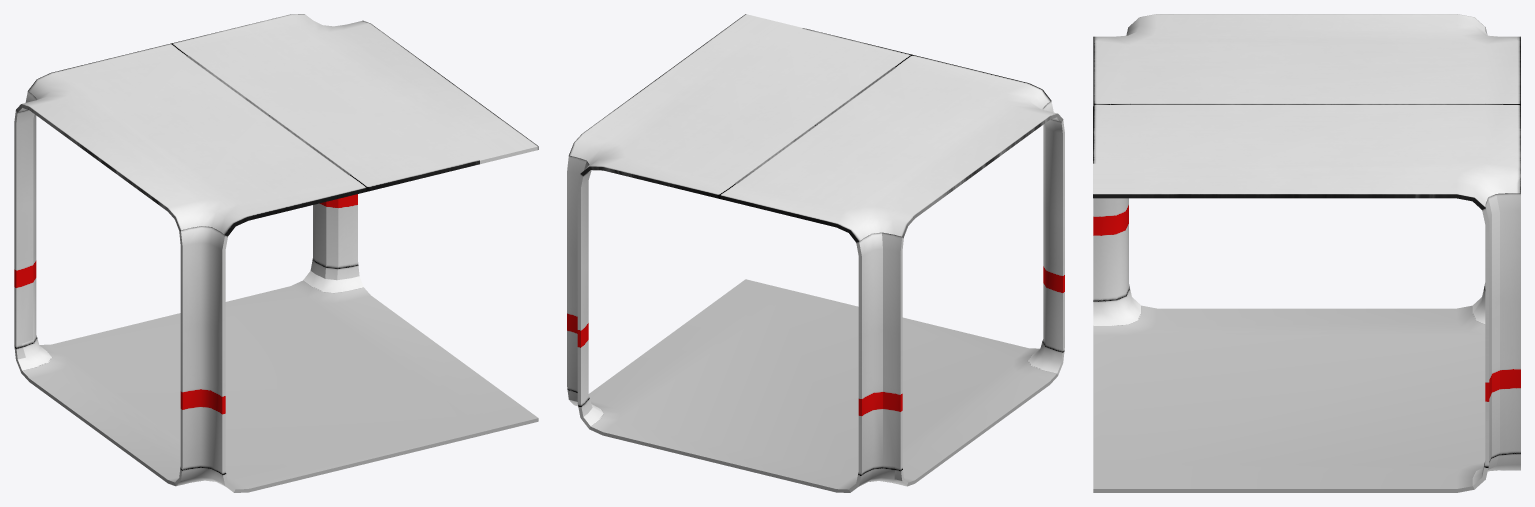
The model's file is Room_Entrence_002.FBX.
3 views of the same model, side by side, from view 1: azimuth 30°, elevation 25°; view 2: azimuth 150°, elevation 25°; view 3: azimuth 270°, elevation 25° (orthographic). The views are drawn at different scales.
Visible parts, largest first — view 1: Room_Entrence_002; view 2: Room_Entrence_002; view 3: Room_Entrence_002.
Part boxes in pixels (bbox=[...]): Room_Entrence_002: bbox=[14, 14, 538, 492]; Room_Entrence_002: bbox=[567, 14, 1064, 492]; Room_Entrence_002: bbox=[1093, 14, 1520, 492].
Bounding box in the file's own units: 3 × 2.31 × 3.
